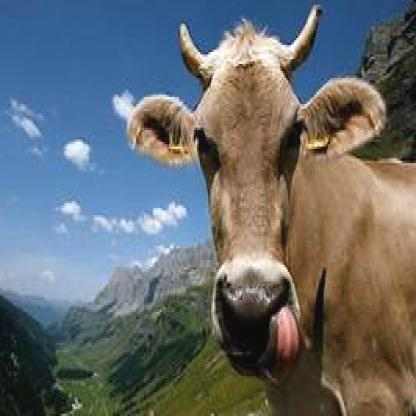cow: (122, 2, 415, 414)
